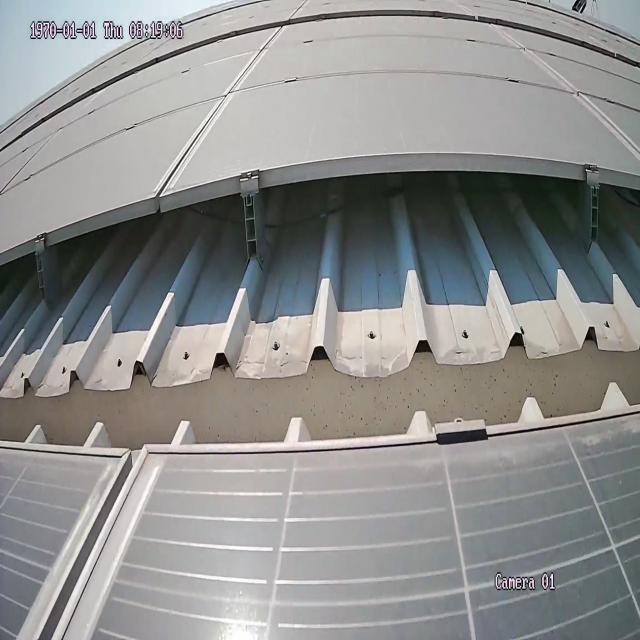interior panel: (15, 482, 155, 640), (155, 31, 283, 181), (507, 34, 640, 152)
outher panel: (2, 161, 640, 453)
